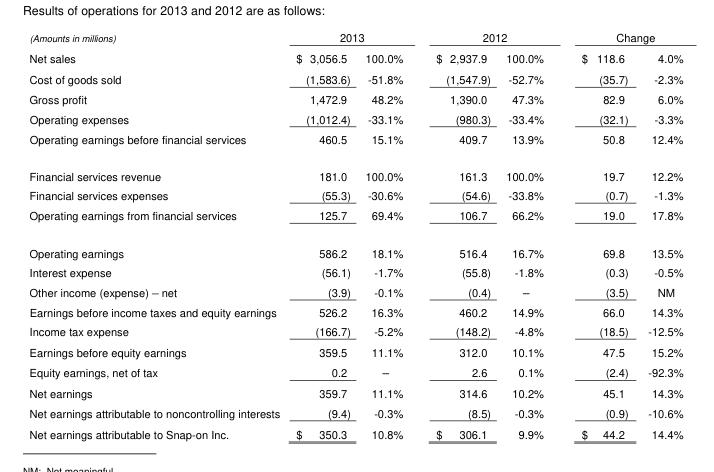table: (28, 29, 682, 441)
table column: (28, 29, 287, 441), (418, 29, 497, 441), (561, 29, 637, 441), (287, 29, 357, 441), (497, 29, 561, 441), (357, 29, 418, 441), (637, 29, 682, 441)
table column header: (28, 29, 682, 68)
table row: (28, 128, 682, 157), (28, 204, 682, 233), (28, 233, 682, 262), (28, 157, 682, 185), (28, 47, 682, 68), (28, 280, 682, 301), (28, 320, 682, 341), (28, 361, 682, 382), (28, 68, 682, 88), (28, 88, 682, 108), (28, 108, 682, 128), (28, 341, 682, 361), (28, 382, 682, 402), (28, 402, 682, 422), (28, 185, 682, 204), (28, 301, 682, 320), (28, 422, 682, 441), (28, 29, 682, 47), (28, 262, 682, 280)
table spanning cell: (28, 29, 287, 68), (418, 29, 561, 47), (287, 29, 418, 47), (561, 29, 682, 47)
